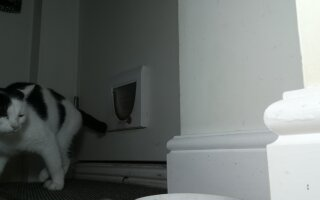bad: (3, 77, 108, 195)
